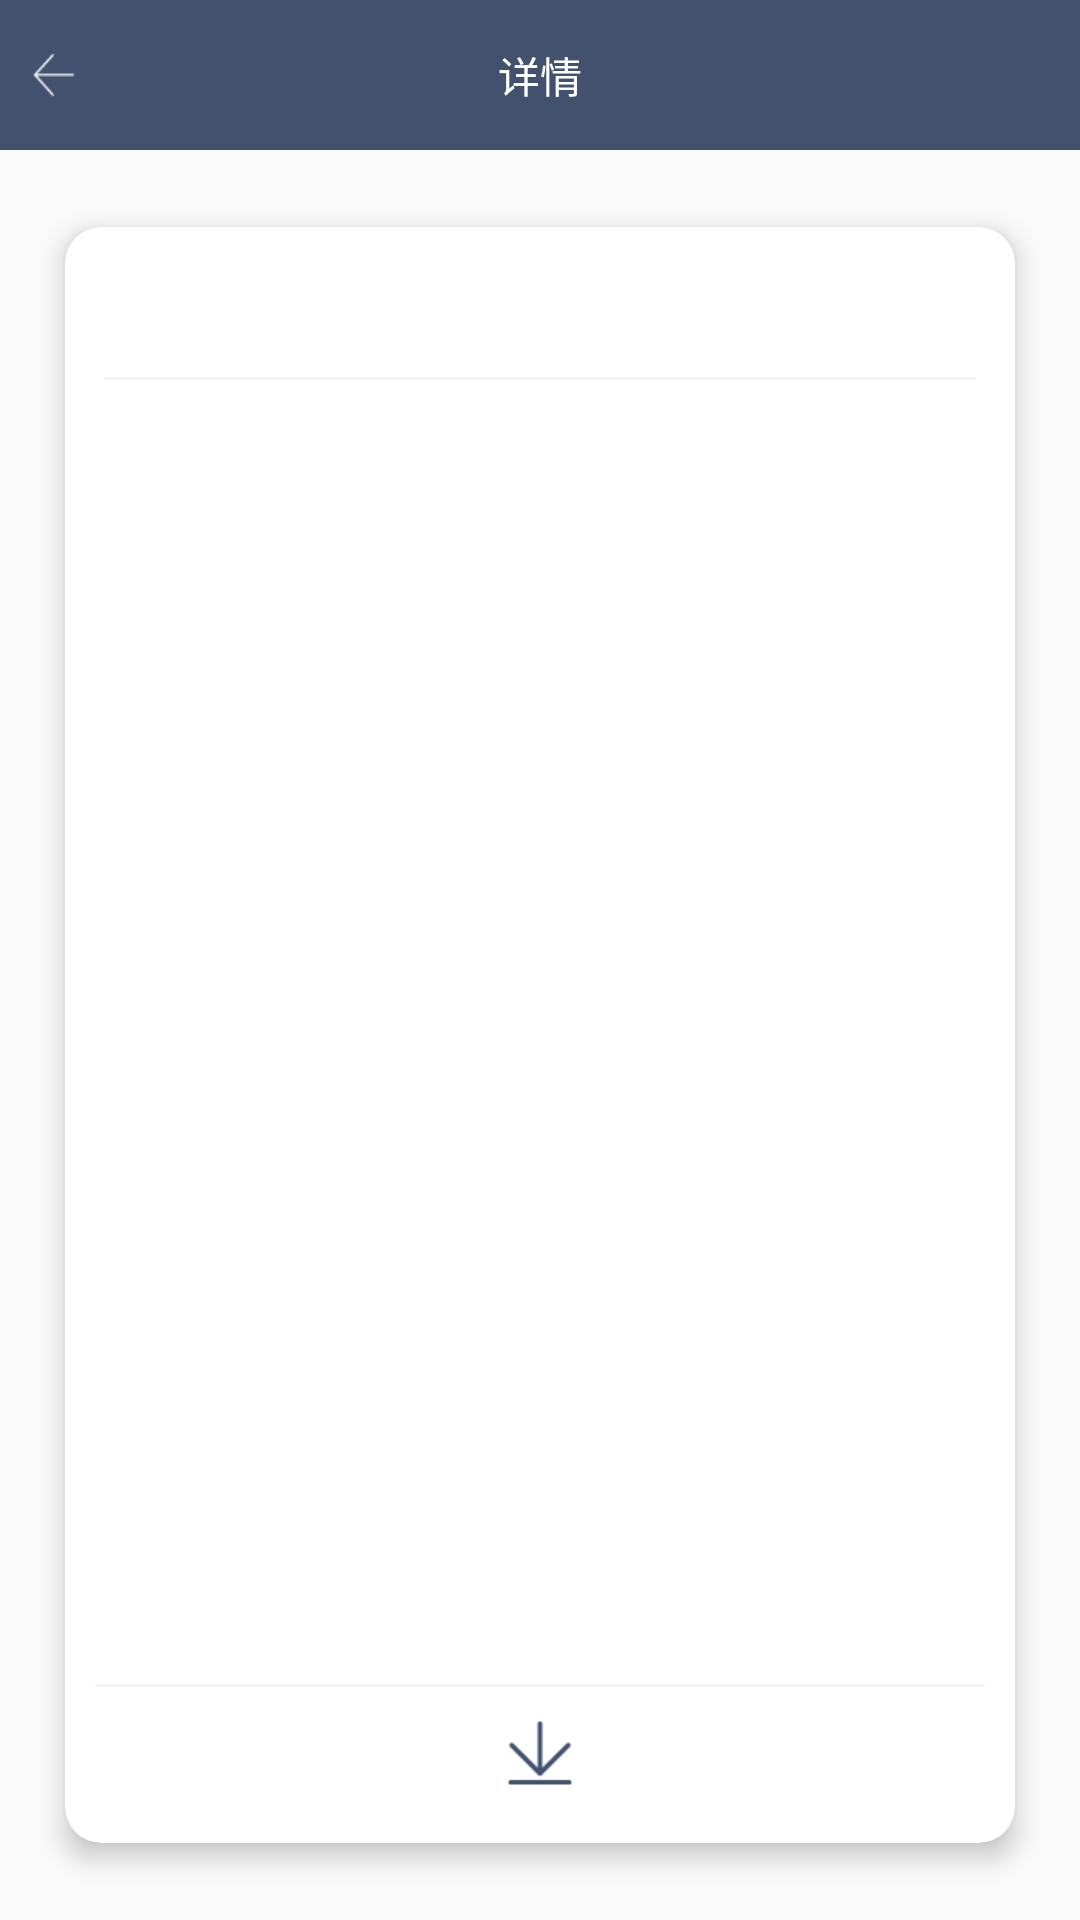

Locate icon controls on the screen. Image size 1080px x 1920px, boxes as bbox(x1, y1, x2, y2).
back: bbox(33, 54, 74, 96)
download: bbox(508, 1721, 572, 1785)
